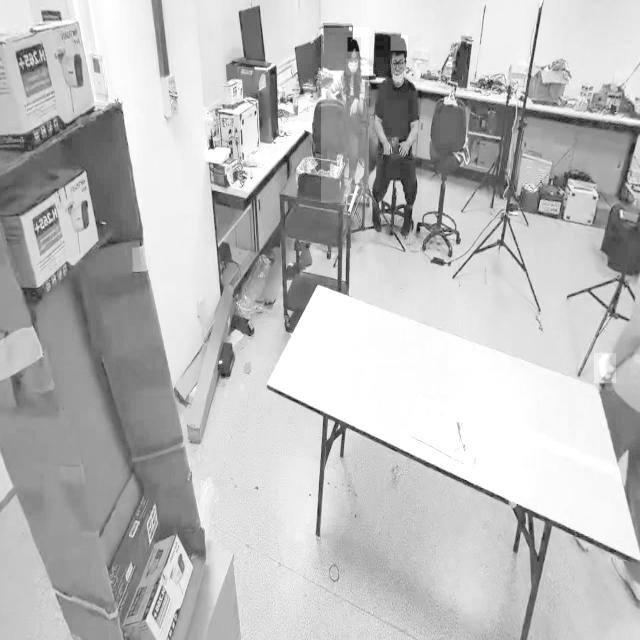face_mask: (345, 59, 359, 76)
face_nomask: (390, 56, 406, 79)
hand_glove: (594, 353, 616, 384)
hand_noglove: (398, 140, 410, 158), (349, 100, 359, 118), (383, 138, 393, 156)
head_nohelmet: (390, 36, 408, 51), (347, 38, 361, 52)
person: (368, 36, 422, 245), (321, 28, 369, 204)
